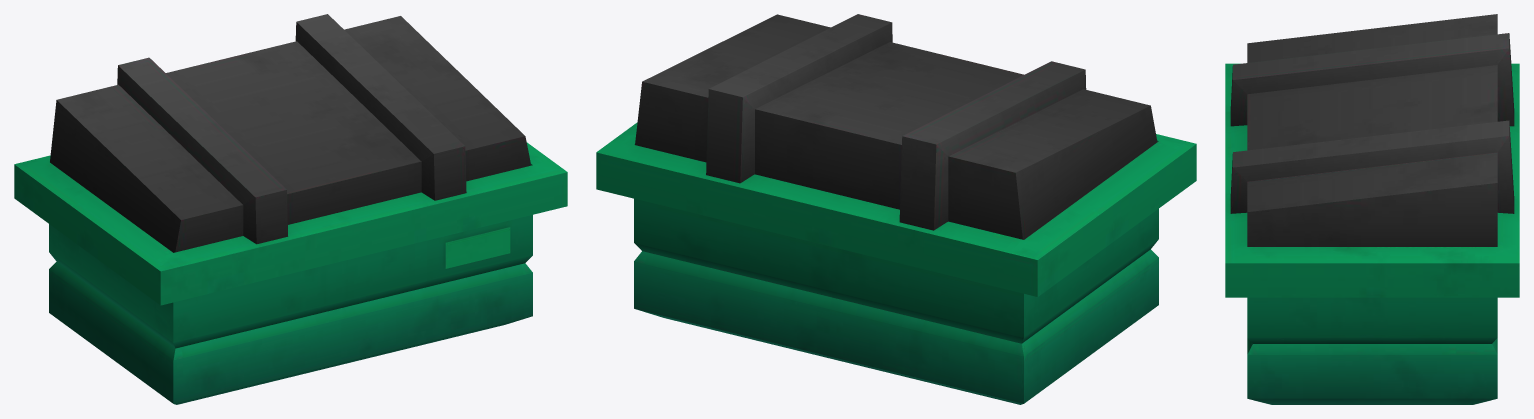
File: dumpster.glb
The picture shows the model from 3 angles, left to right: view 1: azimuth 30°, elevation 25°; view 2: azimuth 150°, elevation 25°; view 3: azimuth 270°, elevation 25°; orthographic projection. The views are drawn at different scales.
Parts seen in each view (by area): view 1: dumpster; view 2: dumpster; view 3: dumpster.
Boxes of the visible parts, <box> form: dumpster: <box>14,14,567,404</box>; dumpster: <box>596,14,1196,404</box>; dumpster: <box>1225,14,1519,404</box>.
Bounding box in the file's own units: 0.5659 × 0.3173 × 0.3528.
Materials: 1 (1 with a texture image).
